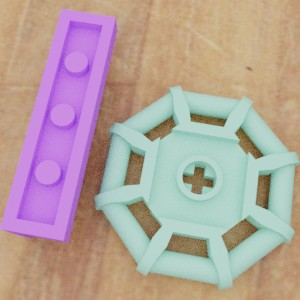lego: (93, 85, 299, 290), (0, 9, 117, 242)
